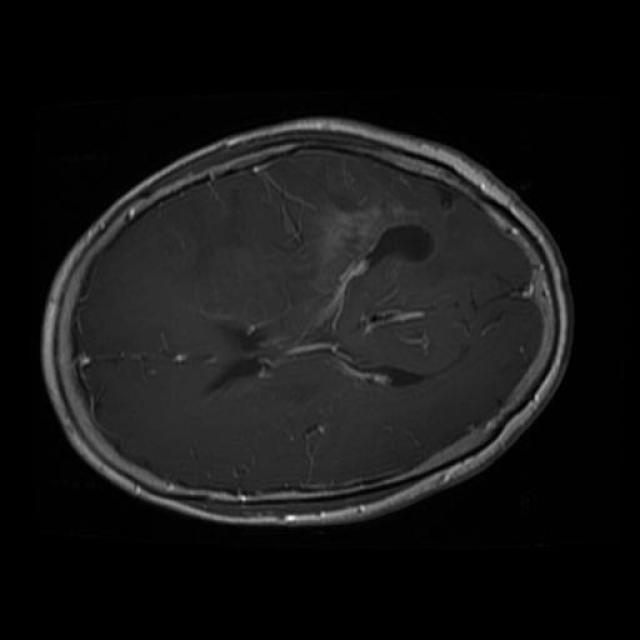Glioma: (281, 151, 409, 291)
